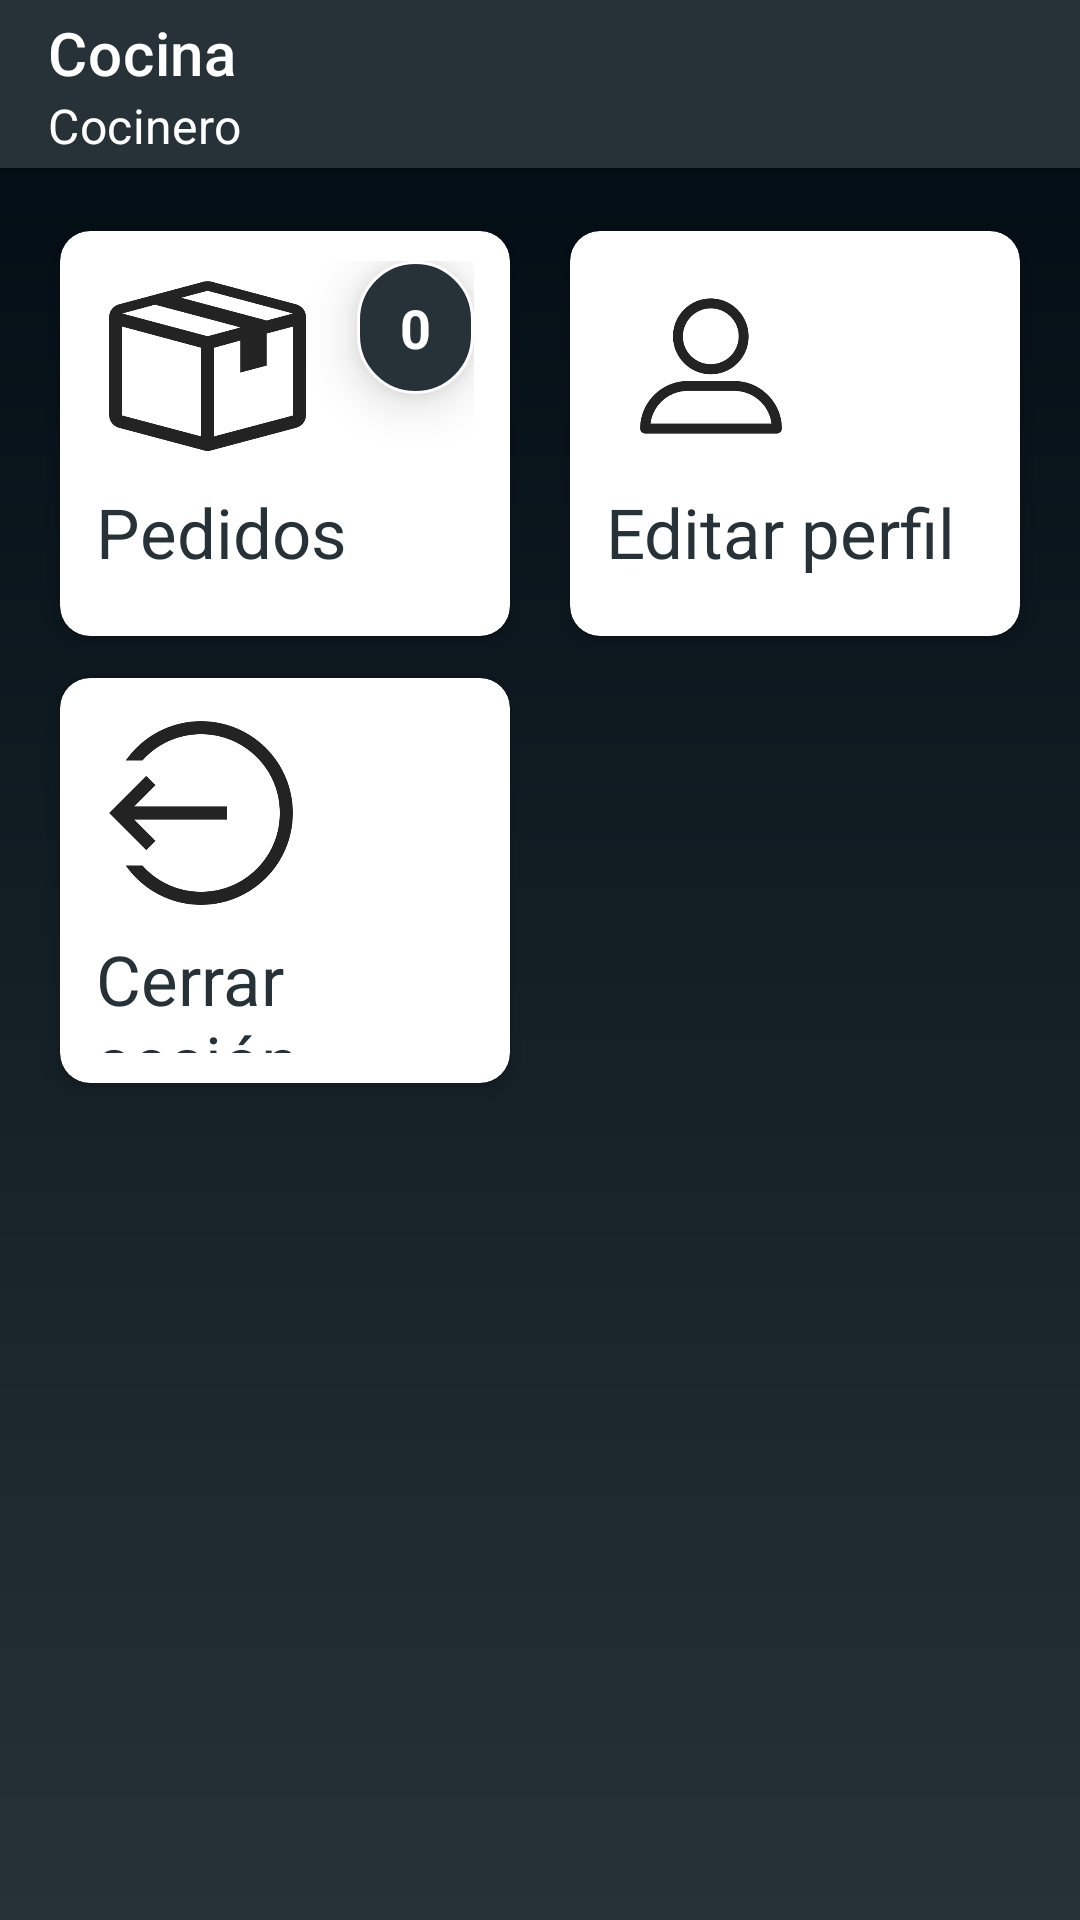

Icon click points for this 1080 x 1920 phone screenshot, format (x,y):
paquete: (207,366)
userpng: (711,366)
